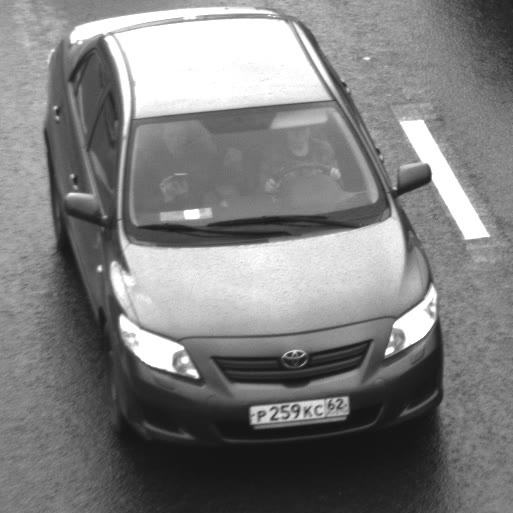plate: (238, 385, 359, 433)
